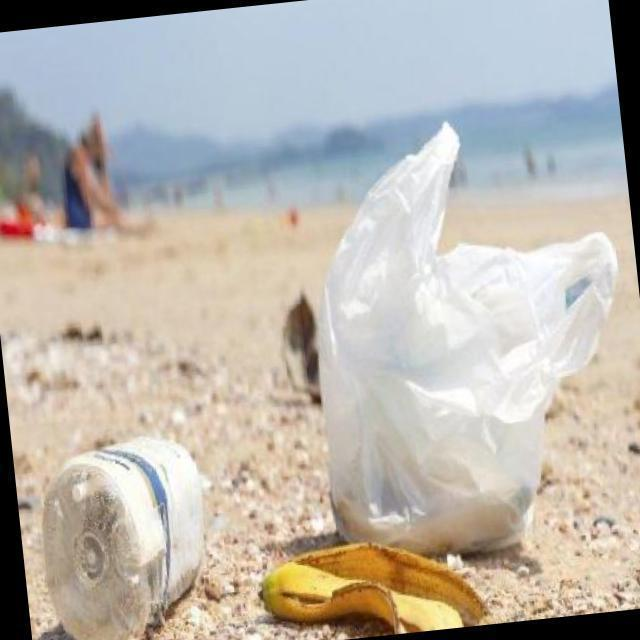Plastic_Bag: (291, 102, 640, 571)
